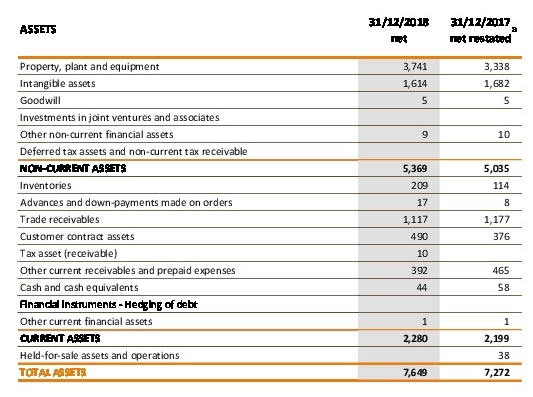table: (0, 0, 533, 397)
